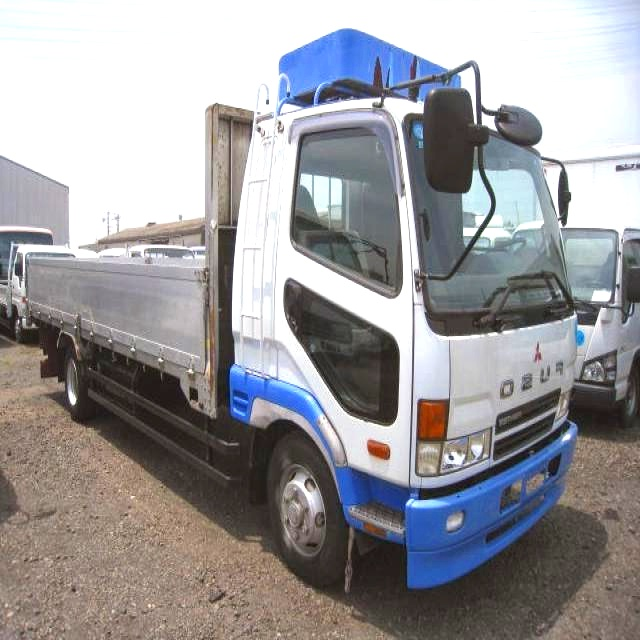truck: (11, 17, 622, 619)
